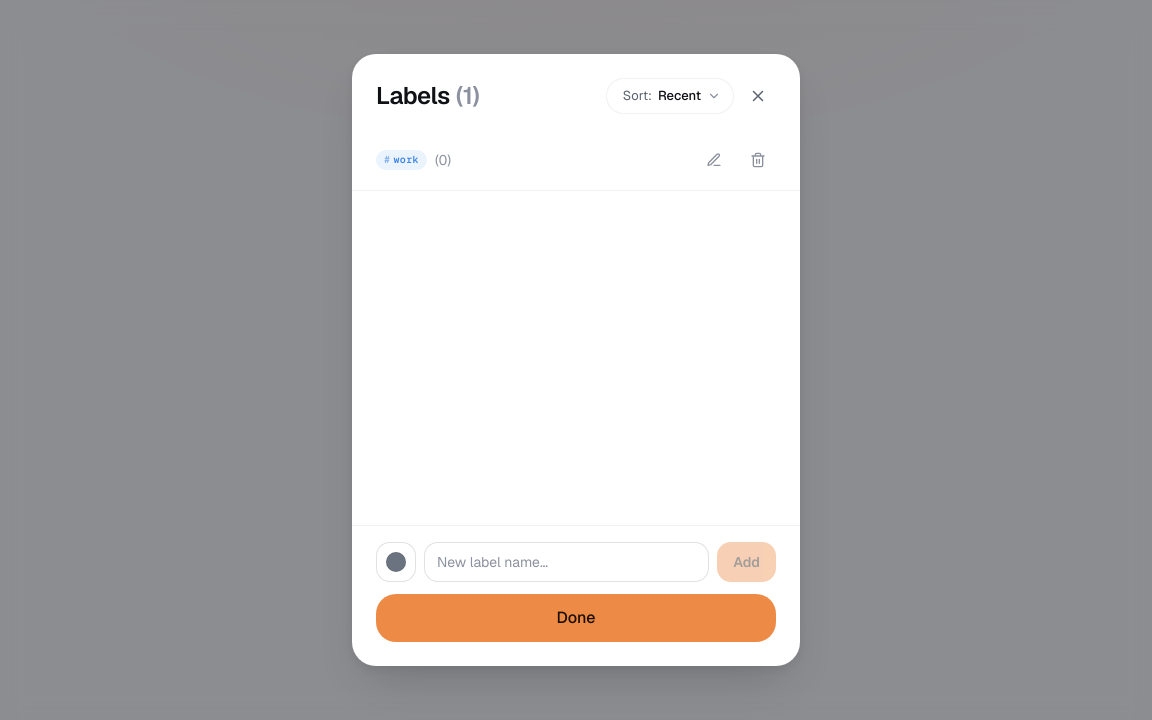
Test case: <LabelsManager> › renames a label via Edit → input → Enter
The image size is (1152, 720).
Click the button named "edit work" at (714, 160), box [696,142,732,178]
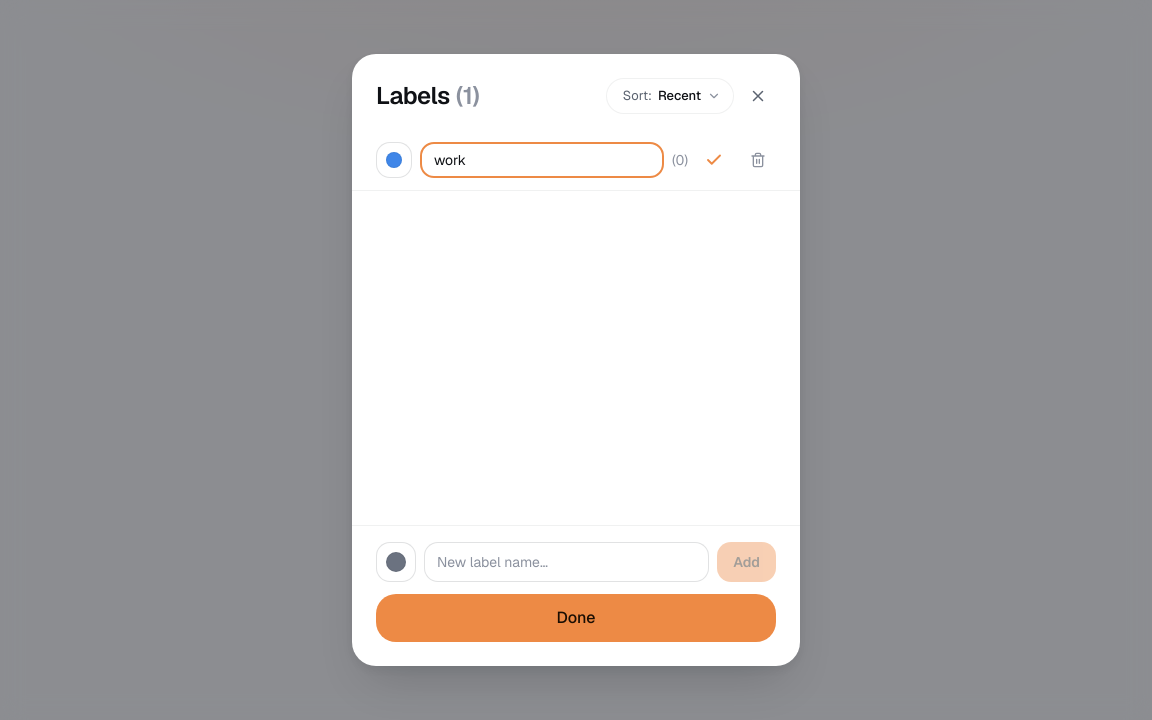
Replace the text in the field showing "work" with "Workspace" at (542, 160), box [420,142,664,178]
Then press Enter
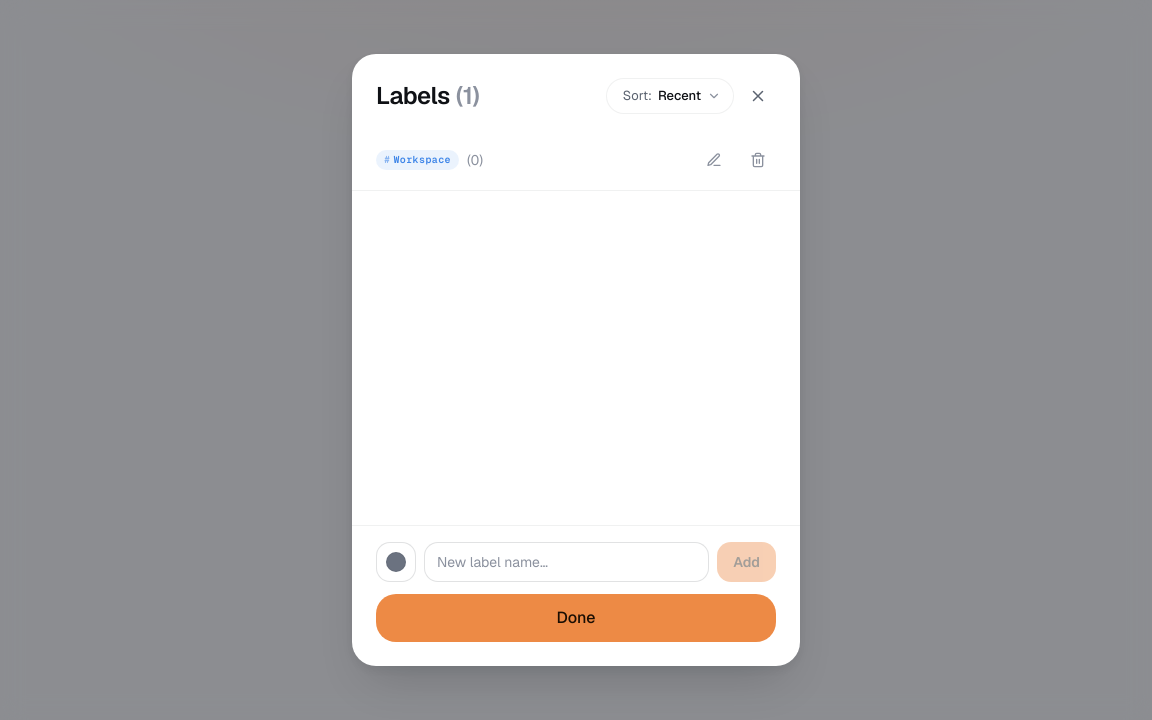
Expected: the text "Workspace" is shown, [376,150,459,170]
